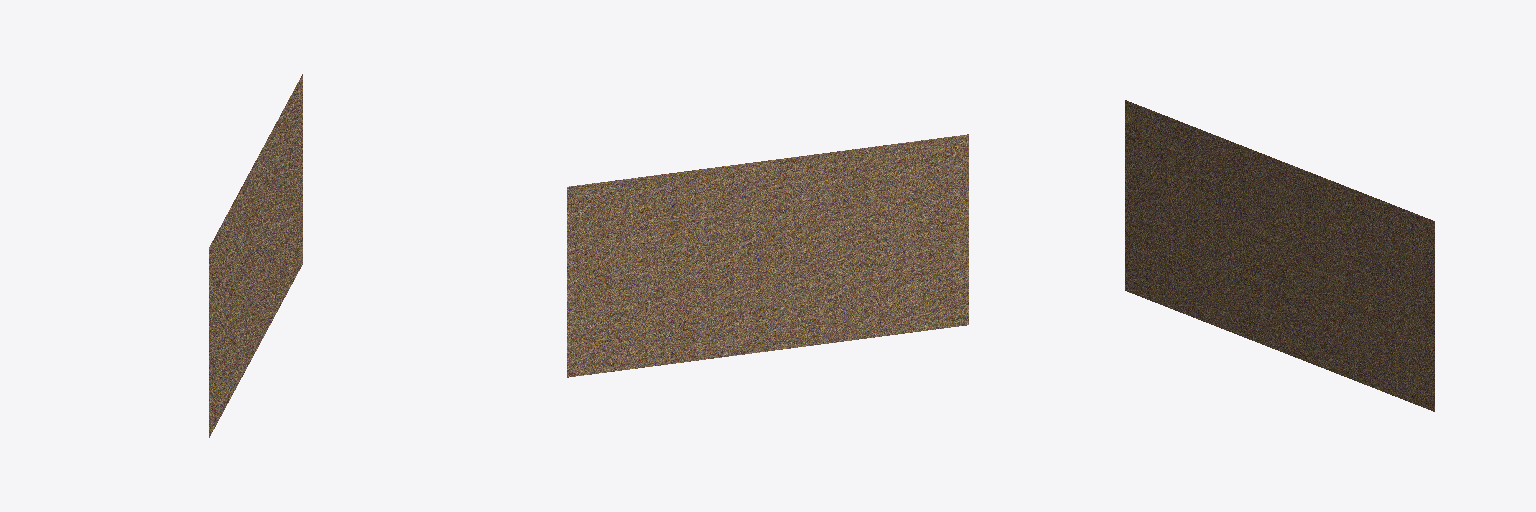
3 renders of one model, left to right at view 1: azimuth 30°, elevation 25°; view 2: azimuth 150°, elevation 25°; view 3: azimuth 270°, elevation 25°, orthographic.
Parts seen in each view (by area): view 1: pPlane2; view 2: pPlane2; view 3: pPlane2.
Part boxes in pixels (x1,y1,x2,y2): pPlane2: (209,74,302,437); pPlane2: (567,134,968,377); pPlane2: (1125,100,1434,411).
Size of the model in its own units: 6.8 by 5 by 7.34.
1 materials, 1 textured.